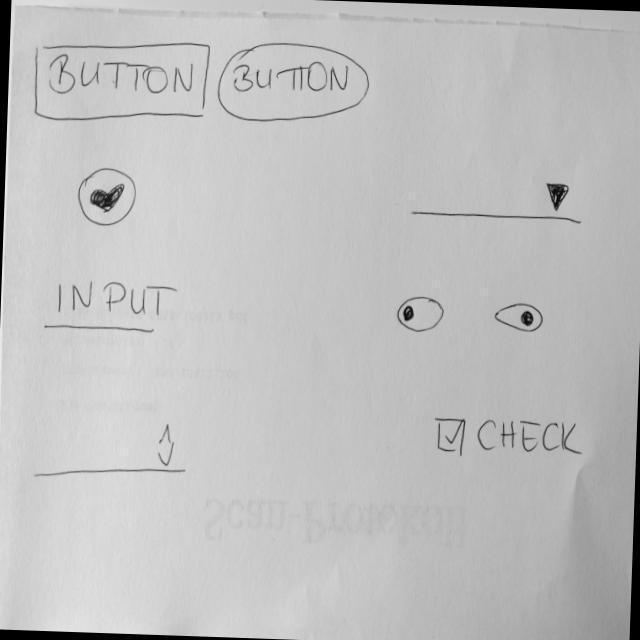button: (32, 36, 214, 130), (216, 39, 373, 129), (76, 166, 139, 230)
checkbox: (433, 410, 586, 463)
input: (41, 276, 183, 339)
number-input: (31, 413, 192, 489)
select: (411, 172, 585, 226)
toggle: (394, 293, 446, 335), (493, 300, 547, 337)
